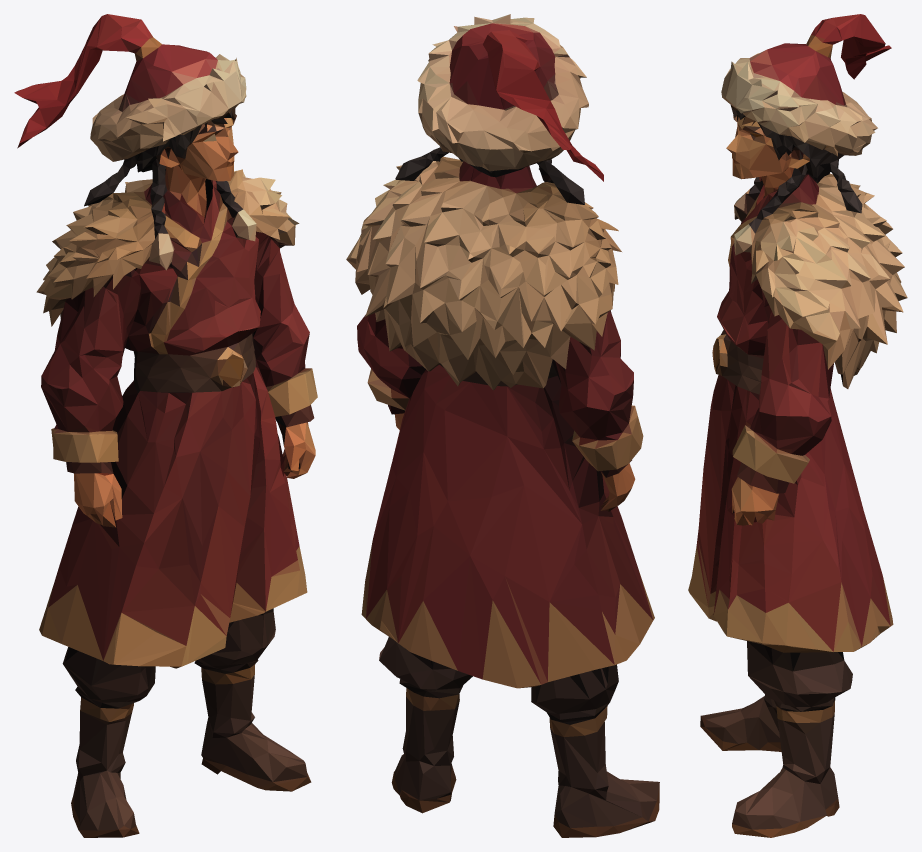
The model's file is fig_tem_crowd.glb.
3 renders of one model, left to right at view 1: azimuth 30°, elevation 25°; view 2: azimuth 150°, elevation 25°; view 3: azimuth 270°, elevation 25°, orthographic. The views are drawn at different scales.
Visible parts, largest first — view 1: fig; view 2: fig; view 3: fig.
Boxes of the visible parts, bbox=[...] form: fig: bbox=[14, 14, 317, 837]; fig: bbox=[346, 14, 659, 837]; fig: bbox=[688, 14, 907, 837].
Bounding box in the file's own units: 0.6728 × 1.9 × 0.5016.
